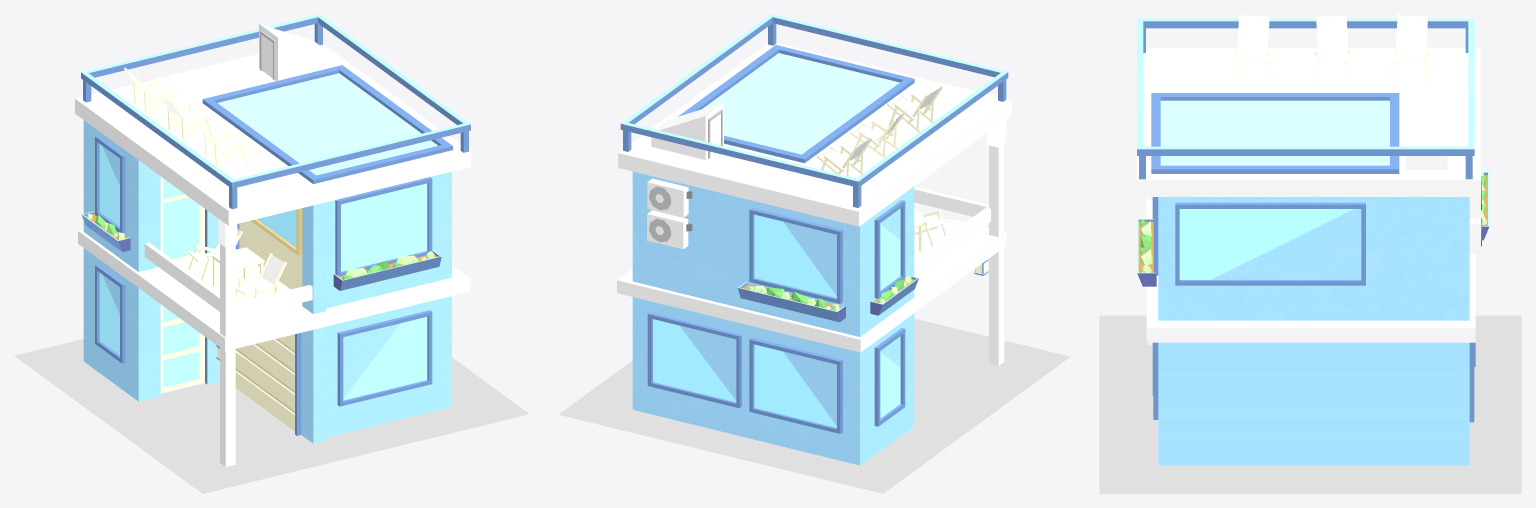
3 renders of one model, left to right at view 1: azimuth 30°, elevation 25°; view 2: azimuth 150°, elevation 25°; view 3: azimuth 270°, elevation 25°, orthographic. The views are drawn at different scales.
Visible parts, largest first — view 1: dwelling modern.009 (1), tile_for_home_1x1.006 (4); view 2: dwelling modern.009 (1), tile_for_home_1x1.006 (4); view 3: dwelling modern.009 (1), tile_for_home_1x1.006 (4).
Part boxes in pixels (<box>): dwelling modern.009 (1): <box>75,14,470,466</box>; tile_for_home_1x1.006 (4): <box>14,339,529,493</box>; dwelling modern.009 (1): <box>617,14,1011,465</box>; tile_for_home_1x1.006 (4): <box>558,318,1070,493</box>; dwelling modern.009 (1): <box>1137,14,1489,465</box>; tile_for_home_1x1.006 (4): <box>1099,315,1521,493</box>.
Bounding box in the file's own units: 8 × 7.2 × 8.
Materials: 1 (1 with a texture image).
